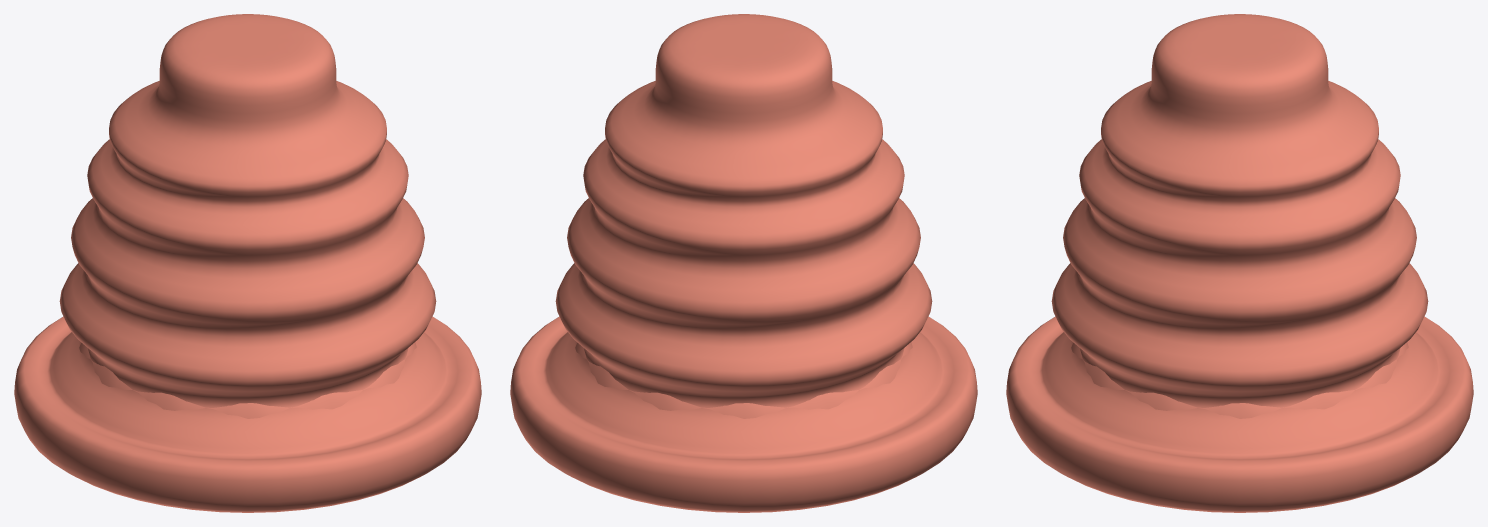
File: Suckers4.fbx
The picture shows the model from 3 angles, left to right: view 1: azimuth 30°, elevation 25°; view 2: azimuth 150°, elevation 25°; view 3: azimuth 270°, elevation 25°; orthographic projection.
Parts seen in each view (by area): view 1: Cylinder.003; view 2: Cylinder.003; view 3: Cylinder.003.
Part boxes in pixels (bbox=[...]): Cylinder.003: bbox=[14, 14, 481, 512]; Cylinder.003: bbox=[510, 14, 977, 512]; Cylinder.003: bbox=[1006, 14, 1473, 512].
Bounding box in the file's own units: 189 × 170 × 189.
